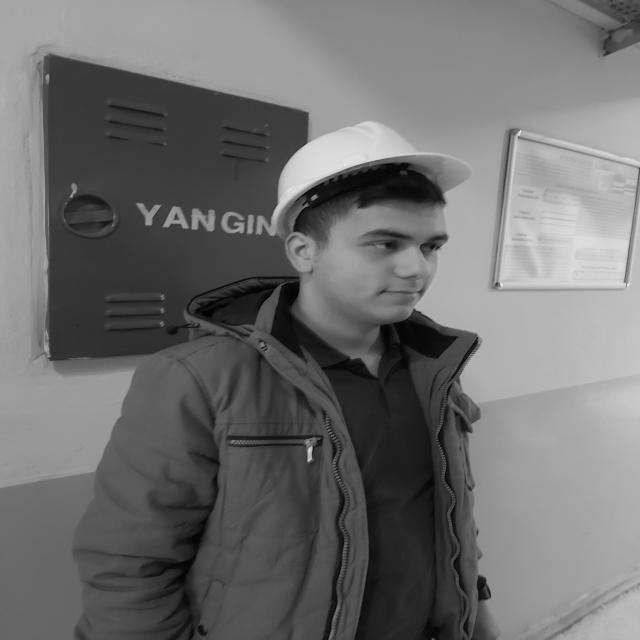safety_helmet: (273, 123, 473, 237)
